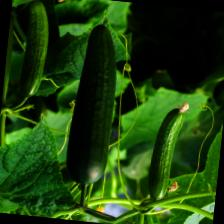cucumber: (62, 21, 122, 187), (144, 104, 187, 203), (17, 0, 52, 97)
